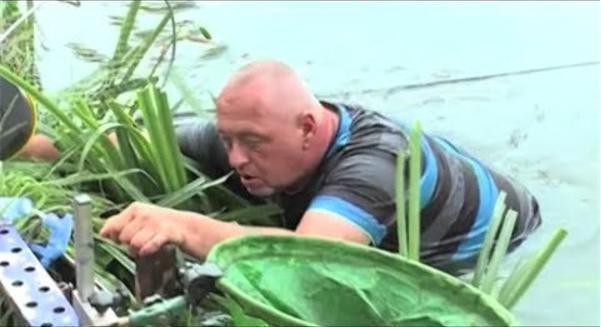Drunk: (217, 99, 296, 195)
